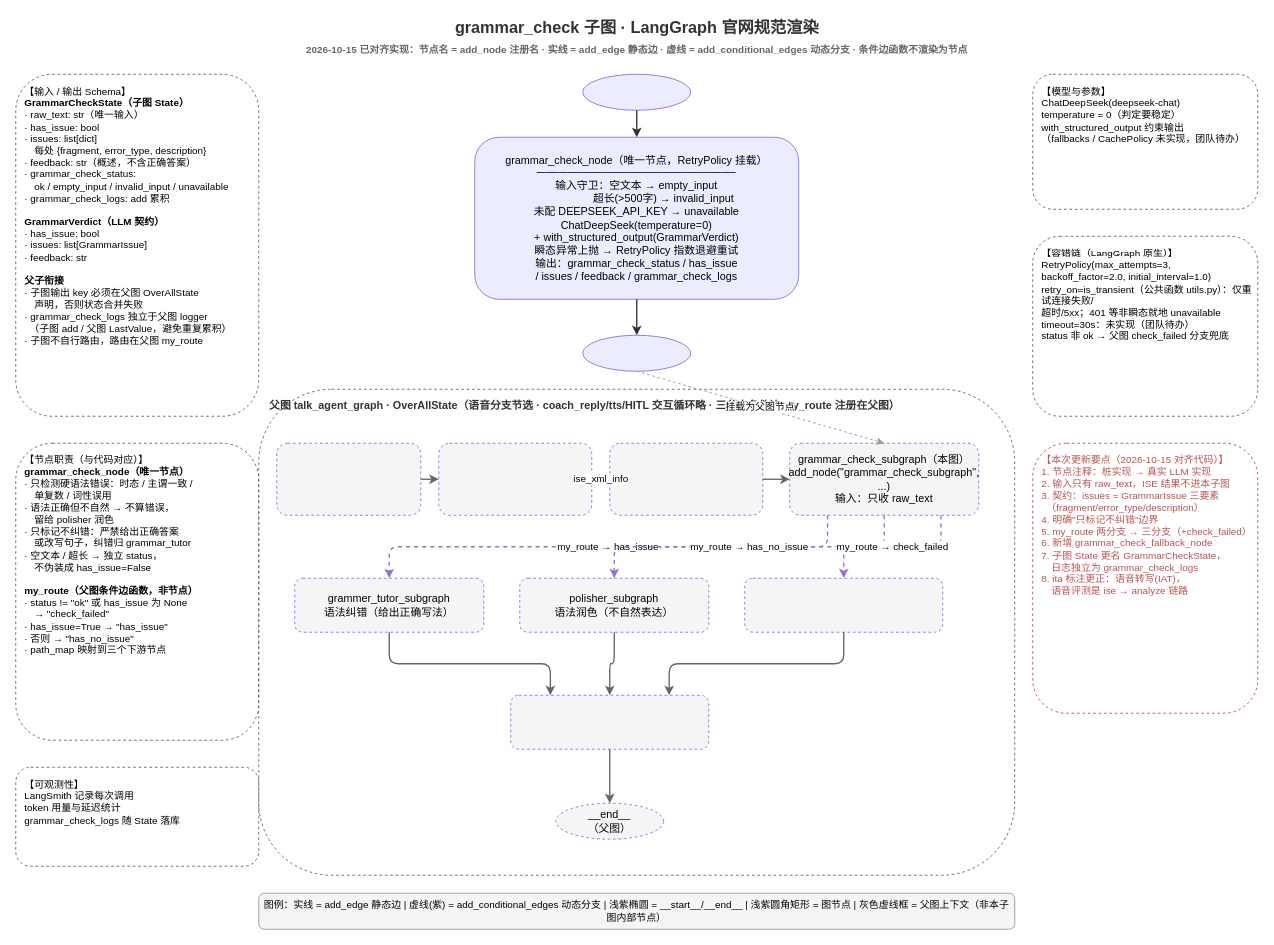
Image size: 1274x945. Some labels were removed from this diagram. Here are the shapes that lost their labels. From the top down, the centre of each, then its label:
At pixel 636 91: "__start__".
At pixel 636 352: "__end__".
At pixel 348 478: "xfyun_ita_tool_node 语音转写（IAT 听写） → raw_text + audio_data".
At pixel 515 478: "xfyun_ise_tool_node 发音评测（ISE，en_vip） → ise_xml_info / ise_grade".
At pixel 686 478: "ise_analyze_node XML → LLM 发音点评 → ise_check_results （不进本子图）".
At pixel 843 604: "grammar_check_fallback_node 占位：手动补日志保齐 （check_failed 兜底路径）".
At pixel 609 721: "coach_reply_subgraph 教练回复".
